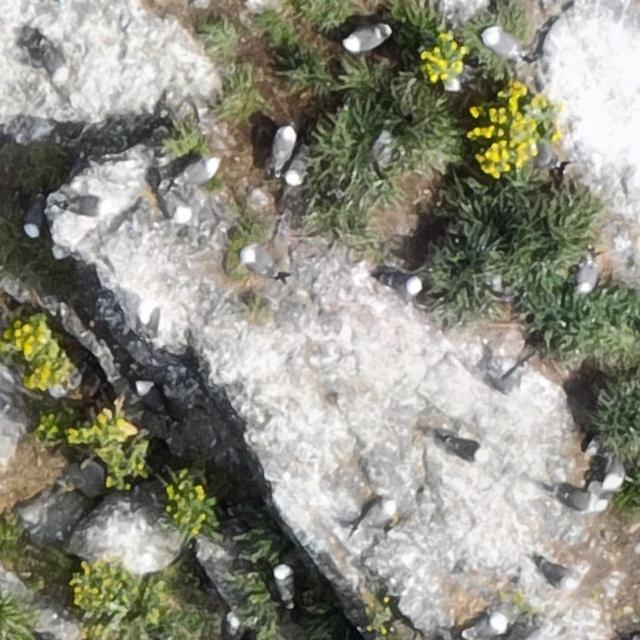umineko: (484, 30, 522, 60), (345, 25, 388, 51), (271, 124, 294, 166), (178, 160, 218, 183), (446, 438, 486, 461), (354, 500, 392, 524), (242, 248, 276, 274), (558, 492, 602, 512), (540, 564, 574, 589), (138, 386, 168, 412), (465, 616, 502, 637), (577, 259, 597, 293), (66, 197, 105, 214), (391, 273, 422, 294), (273, 567, 292, 601), (23, 203, 42, 236), (284, 154, 304, 185), (225, 616, 237, 640)
